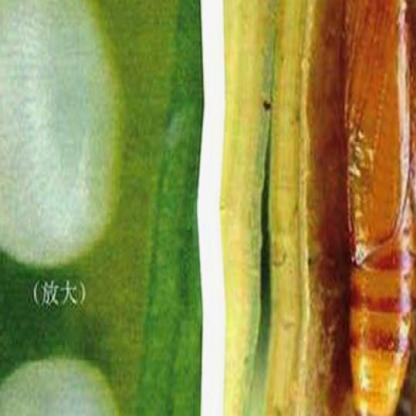whorl-maggot: (330, 0, 414, 416)
